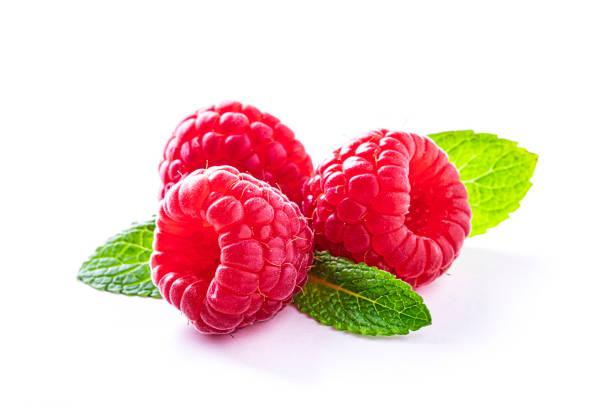raspberry: (148, 164, 314, 335), (301, 127, 471, 288), (156, 99, 314, 215)
